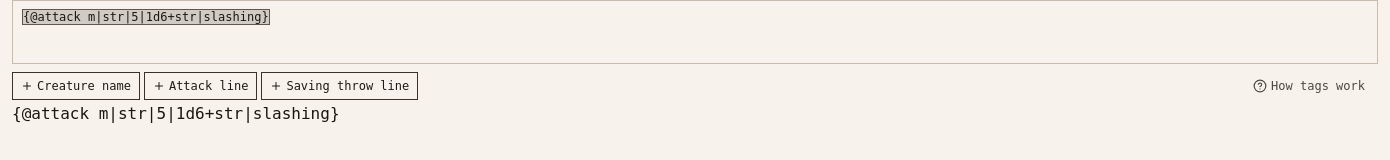
Test case: MarkupField (CodeMirror) › Ctrl+Z reverts a catalog insert (e.g. one nested inside an attack line)
This screenshot has width=1390, height=160.
Click the button "Attack line" at (201, 86), box [144,72,257,100]
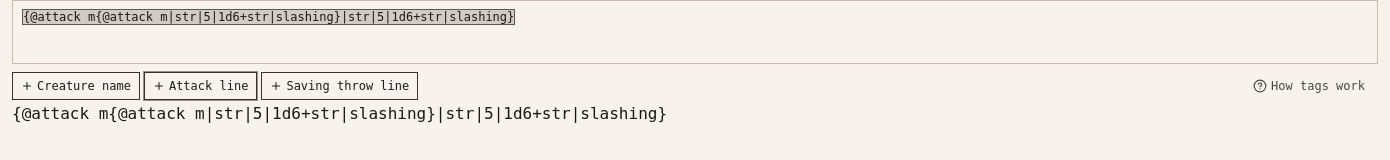
Press z in the field with class "cm-content", box [23,10,514,24]
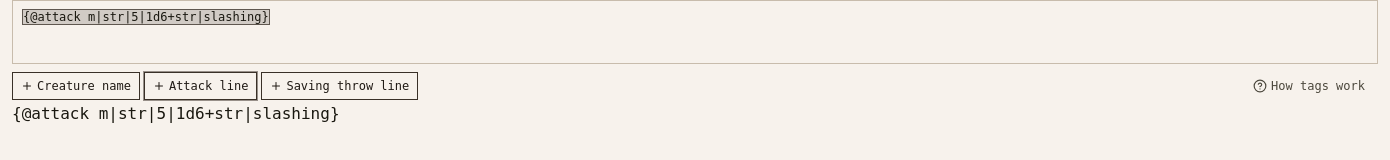
Now the text box labelled "{@attack m|str|5|1d6+str|slashing}" is shown, box [23,10,269,24]
